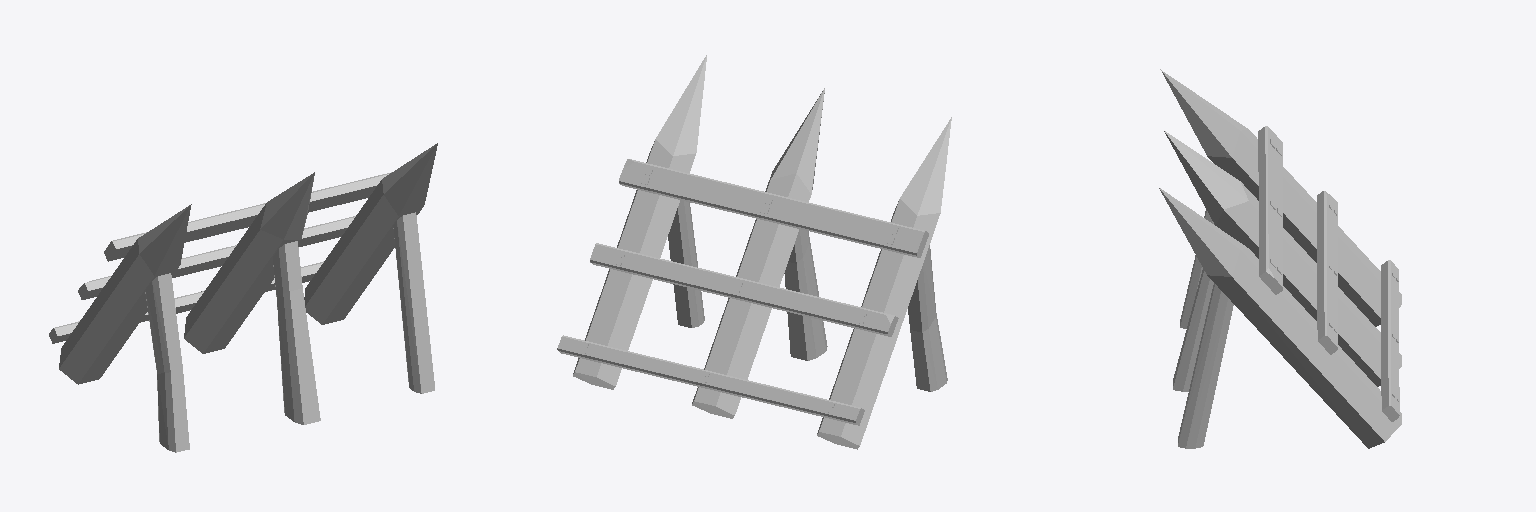
File: Spikes_3.obj
3 views of the same model, side by side, from view 1: azimuth 30°, elevation 25°; view 2: azimuth 150°, elevation 25°; view 3: azimuth 270°, elevation 25° (orthographic).
Visible parts, largest first — view 1: Spikes_3; view 2: Spikes_3; view 3: Spikes_3.
Boxes of the visible parts, x1,y1,x2,y2 form: Spikes_3: [49, 143, 437, 452]; Spikes_3: [557, 55, 951, 449]; Spikes_3: [1159, 69, 1401, 448].
Bounding box in the file's own units: 1.25 × 1.02 × 0.8742.